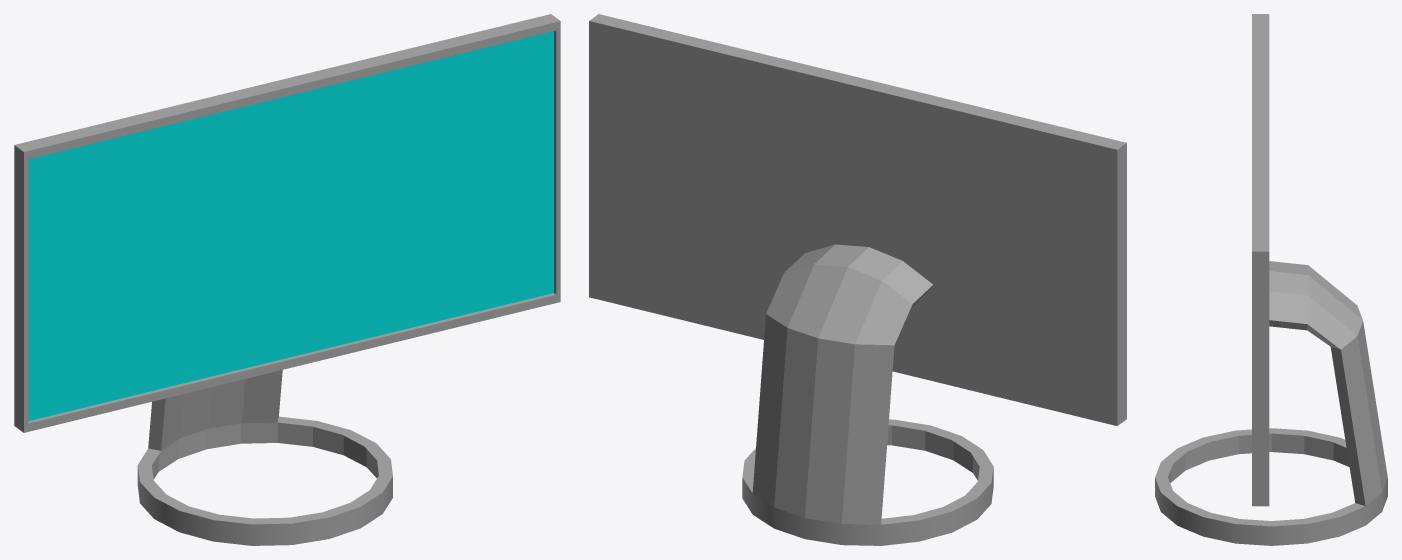
The model's file is ComputerMonitor.fbx.
3 renders of one model, left to right at view 1: azimuth 30°, elevation 25°; view 2: azimuth 150°, elevation 25°; view 3: azimuth 270°, elevation 25°, orthographic. The views are drawn at different scales.
Parts seen in each view (by area): view 1: pCube829; view 2: pCube829; view 3: pCube829.
Part boxes in pixels (bbox=[...]): pCube829: bbox=[14, 14, 560, 545]; pCube829: bbox=[589, 14, 1126, 545]; pCube829: bbox=[1155, 14, 1387, 545].
Size of the model in its own units: 1.67 by 1.22 by 0.6916.
